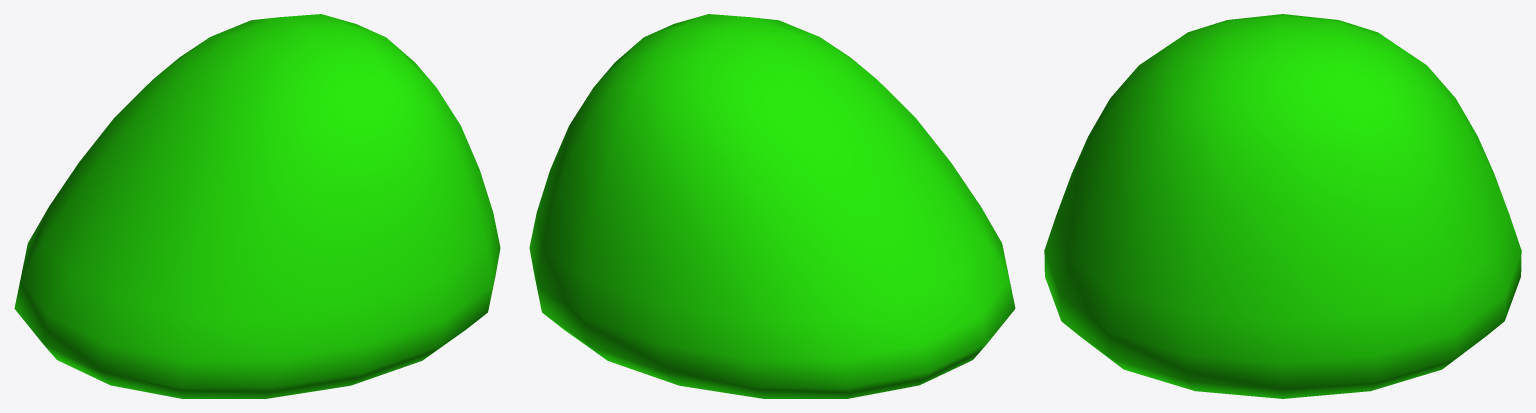
Rendered from 史莱姆.glb.
3 views of the same model, side by side, from view 1: azimuth 30°, elevation 25°; view 2: azimuth 150°, elevation 25°; view 3: azimuth 270°, elevation 25° (orthographic). The views are drawn at different scales.
Parts seen in each view (by area): view 1: 身体; view 2: 身体; view 3: 身体.
Part boxes in pixels (<box>): 身体: <box>14,14,500,398</box>; 身体: <box>529,14,1015,398</box>; 身体: <box>1044,14,1521,398</box>.
Bounding box in the file's own units: 2.83 × 1.84 × 2.5.
